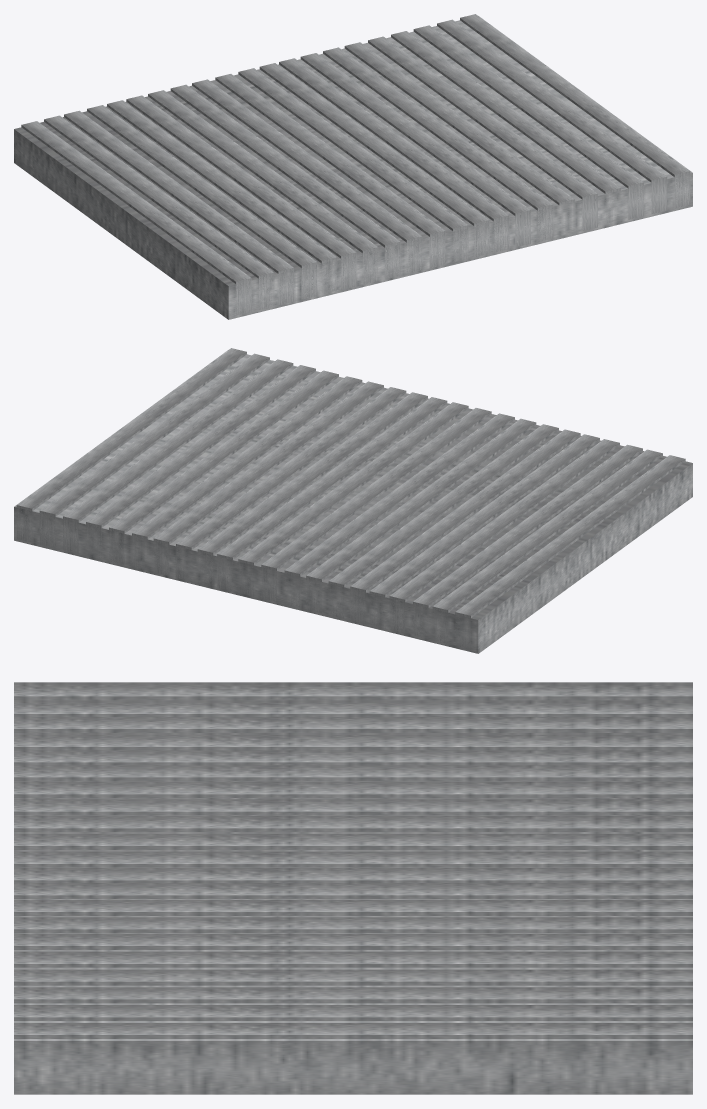
Rendered from Kitchen Sinkboard.fbx.
3 views of the same model, one above another, from view 1: azimuth 30°, elevation 25°; view 2: azimuth 150°, elevation 25°; view 3: azimuth 270°, elevation 25° (orthographic). The views are drawn at different scales.
Visible parts, largest first — view 1: Draining Board, Draining Board.008, Draining Board.020, Draining Board.019, Draining Board.013, Draining Board.015, Draining Board.004, Draining Board.006, Draining Board.002, Draining Board.011, Draining Board.014, Draining Board.021 (+10 smaller); view 2: Draining Board, Draining Board.020, Draining Board.021, Draining Board.008, Draining Board.006, Draining Board.015, Draining Board.019, Draining Board.012, Draining Board.002, Draining Board.017, Draining Board.010, Draining Board.018 (+10 smaller); view 3: Draining Board, Draining Board.001, Draining Board.004, Draining Board.006, Draining Board.011, Draining Board.018, Draining Board.017, Draining Board.015, Draining Board.021, Draining Board.002, Draining Board.003, Draining Board.005 (+10 smaller).
Boxes of the visible parts, x1=… form: Draining Board: x1=14, y1=16, x2=692, y2=319; Draining Board.008: x1=87, y1=105, x2=317, y2=299; Draining Board.020: x1=437, y1=19, x2=667, y2=214; Draining Board.019: x1=460, y1=14, x2=690, y2=208; Draining Board.013: x1=279, y1=58, x2=509, y2=252; Draining Board.015: x1=323, y1=47, x2=553, y2=241; Draining Board.004: x1=170, y1=84, x2=400, y2=279; Draining Board.006: x1=126, y1=95, x2=356, y2=289; Draining Board.002: x1=215, y1=74, x2=445, y2=268; Draining Board.011: x1=21, y1=121, x2=251, y2=315; Draining Board.014: x1=300, y1=53, x2=530, y2=247; Draining Board.021: x1=413, y1=25, x2=643, y2=219; Draining Board: x1=14, y1=350, x2=692, y2=653; Draining Board.020: x1=39, y1=353, x2=269, y2=548; Draining Board.021: x1=63, y1=359, x2=293, y2=553; Draining Board.008: x1=389, y1=439, x2=619, y2=633; Draining Board.006: x1=350, y1=429, x2=580, y2=623; Draining Board.015: x1=153, y1=381, x2=383, y2=575; Draining Board.019: x1=16, y1=348, x2=246, y2=542; Draining Board.012: x1=217, y1=397, x2=447, y2=591; Draining Board.002: x1=261, y1=408, x2=491, y2=602; Draining Board.017: x1=109, y1=370, x2=338, y2=564; Draining Board.010: x1=432, y1=449, x2=662, y2=643; Draining Board.018: x1=86, y1=365, x2=315, y2=559; Draining Board: x1=14, y1=682, x2=692, y2=1094; Draining Board.001: x1=14, y1=851, x2=692, y2=867; Draining Board.004: x1=14, y1=799, x2=692, y2=815; Draining Board.006: x1=14, y1=765, x2=692, y2=781; Draining Board.011: x1=14, y1=684, x2=692, y2=700; Draining Board.018: x1=14, y1=969, x2=692, y2=985; Draining Board.017: x1=14, y1=951, x2=692, y2=967; Draining Board.015: x1=14, y1=917, x2=692, y2=933; Draining Board.021: x1=14, y1=987, x2=692, y2=1003; Draining Board.002: x1=14, y1=834, x2=692, y2=849; Draining Board.003: x1=14, y1=816, x2=692, y2=831; Draining Board.005: x1=14, y1=782, x2=692, y2=797.
Bounding box in the file's own units: 0.7108 × 0.053 × 0.5687.
Materials: 22 (22 with a texture image).
